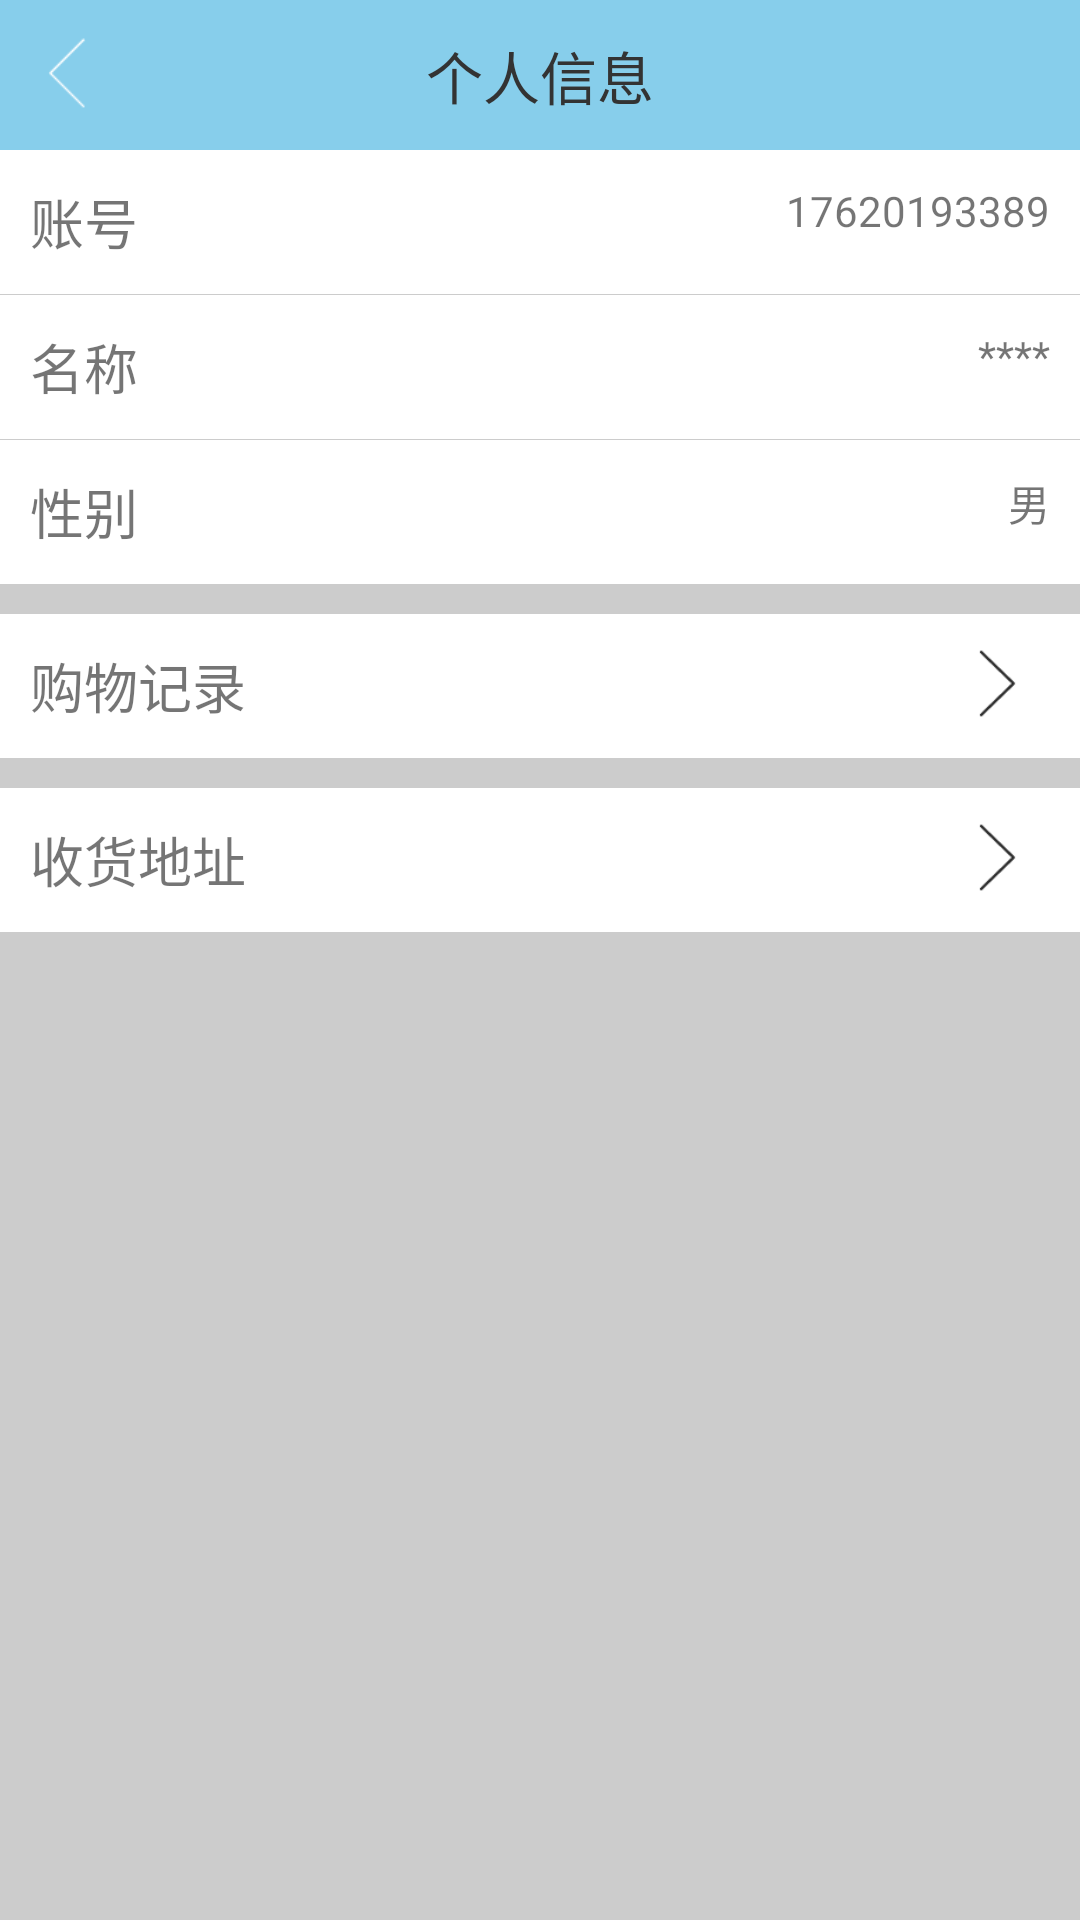

Icons on this 1080*1920 Android screen, each with its box as box=[x1, y1, x2, y2]:
youjiantou: box=[979, 650, 1015, 717], box=[979, 824, 1015, 891]
zuo back: box=[49, 38, 85, 108]
